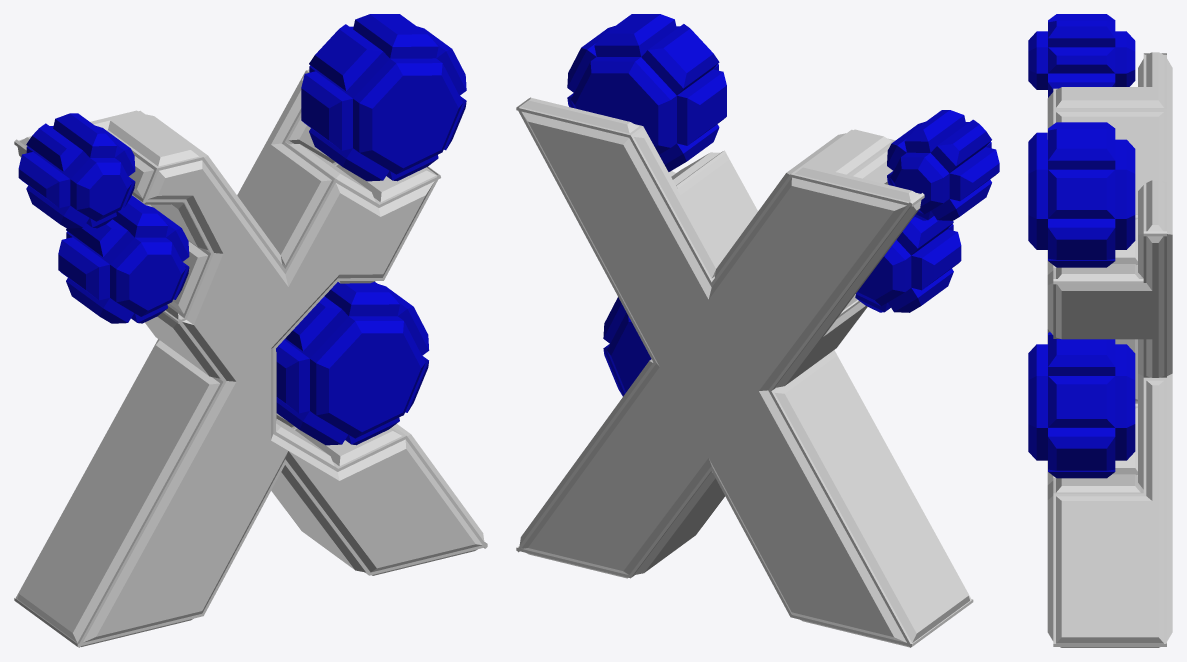
3 views of the same model, side by side, from view 1: azimuth 30°, elevation 25°; view 2: azimuth 150°, elevation 25°; view 3: azimuth 270°, elevation 25° (orthographic). The views are drawn at different scales.
Visible parts, largest first — view 1: sphere1; view 2: sphere1; view 3: sphere1.
Boxes of the visible parts, x1,y1,x2,y2 form: sphere1: (14, 14, 487, 647); sphere1: (516, 14, 999, 647); sphere1: (1028, 14, 1172, 647).
Bounding box in the file's own units: 0.8015 × 0.9378 × 0.2541.
